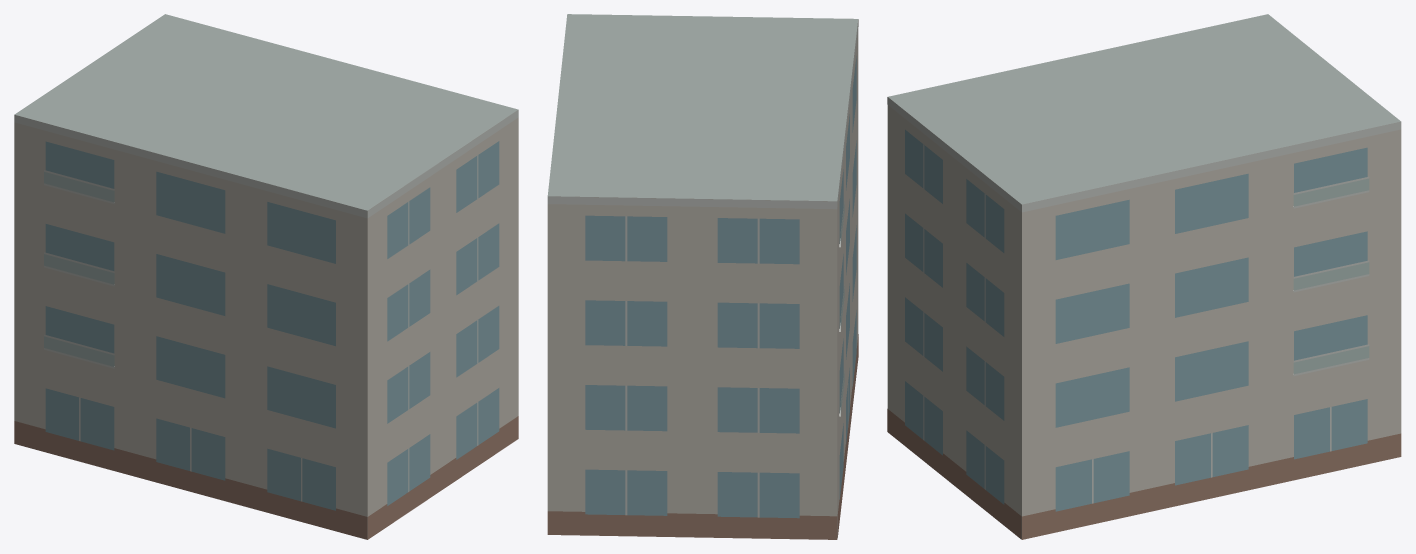
Rendered from survey-upis-32534223.glb.
3 renders of one model, left to right at view 1: azimuth 30°, elevation 25°; view 2: azimuth 150°, elevation 25°; view 3: azimuth 270°, elevation 25°, orthographic. The views are drawn at different scales.
Parts seen in each view (by area): view 1: survey-upis-32534223.tmp; view 2: survey-upis-32534223.tmp; view 3: survey-upis-32534223.tmp.
Boxes of the visible parts, x1=… form: survey-upis-32534223.tmp: x1=14, y1=14, x2=518, y2=539; survey-upis-32534223.tmp: x1=547, y1=14, x2=858, y2=539; survey-upis-32534223.tmp: x1=887, y1=14, x2=1401, y2=539.
Size of the model in its own units: 12.69 by 10.4 by 14.45.
